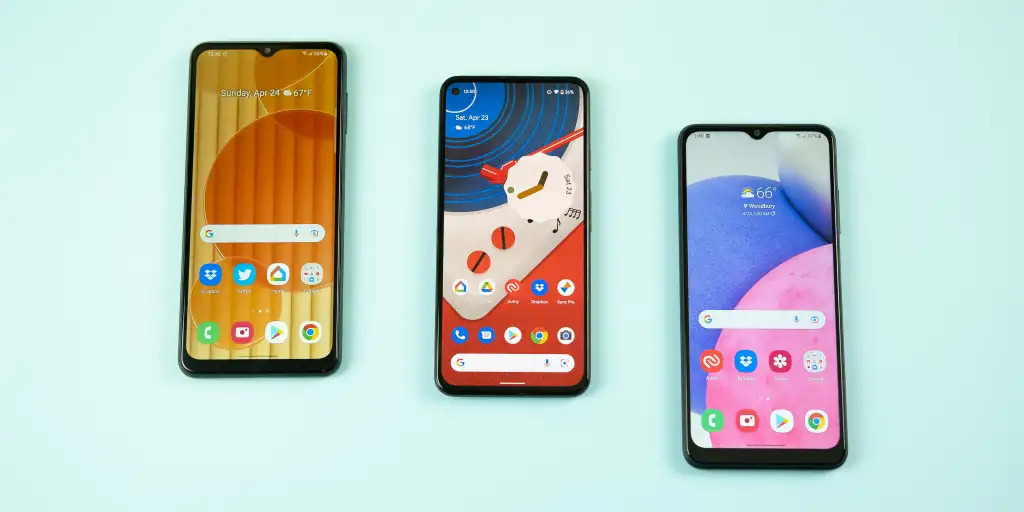phones: (670, 120, 857, 476), (175, 31, 356, 388), (428, 72, 598, 402)
